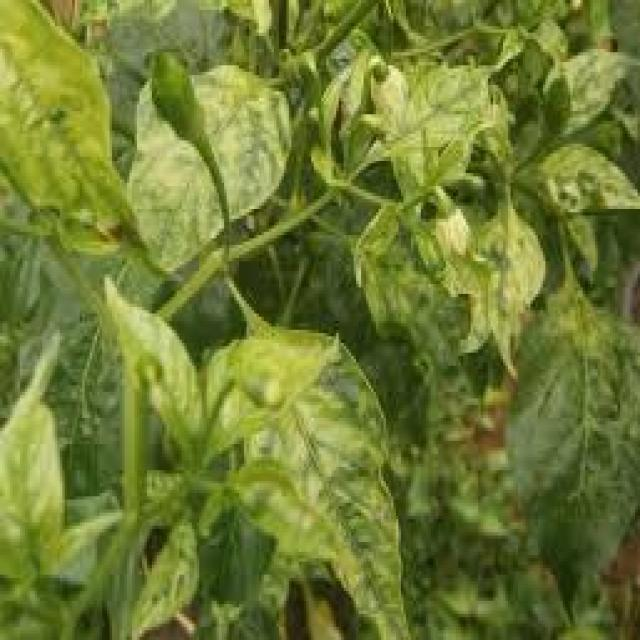Nutirtion_deficie: (368, 27, 627, 392), (195, 290, 416, 640), (128, 38, 306, 259), (9, 0, 150, 269), (0, 379, 100, 640), (114, 296, 237, 488)
